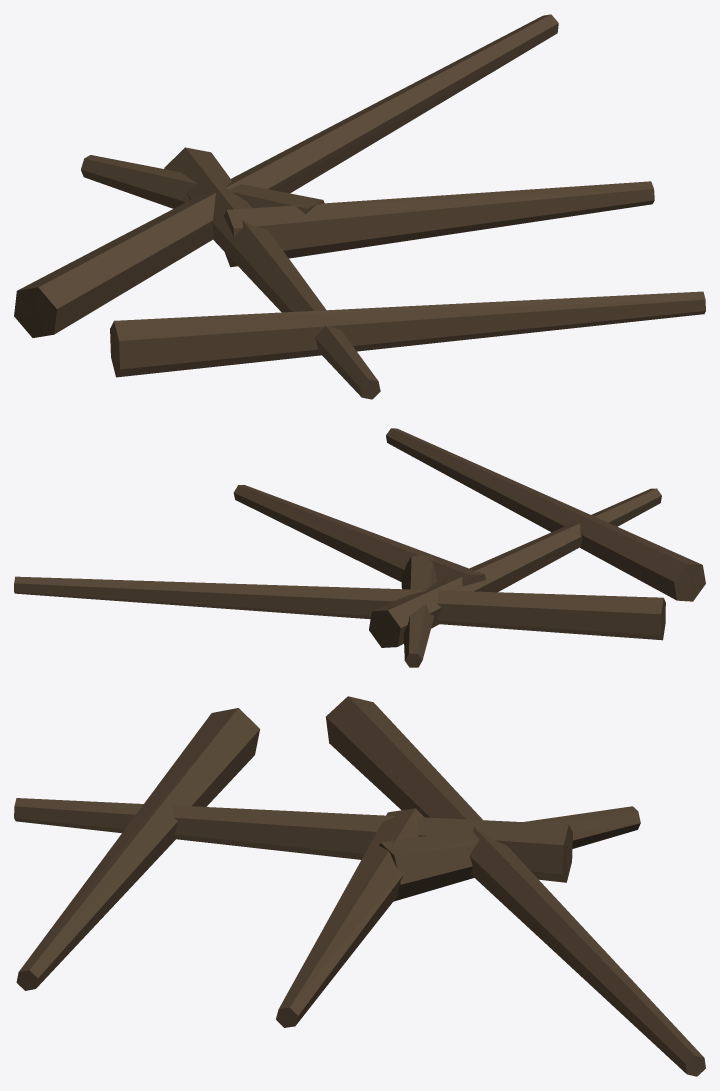
The model's file is fallen_branches.glb.
The picture shows the model from 3 angles, top to bottom: view 1: azimuth 30°, elevation 25°; view 2: azimuth 150°, elevation 25°; view 3: azimuth 270°, elevation 25°; orthographic projection. The views are drawn at different scales.
Visible parts, largest first — view 1: world-scenery/fallen_branches; view 2: world-scenery/fallen_branches; view 3: world-scenery/fallen_branches.
Boxes of the visible parts, box(x1,y1,x2,y2) form: world-scenery/fallen_branches: box(14, 14, 705, 399); world-scenery/fallen_branches: box(14, 428, 705, 667); world-scenery/fallen_branches: box(14, 696, 705, 1076).
Size of the model in its own units: 1.37 by 0.0992 by 1.14.
